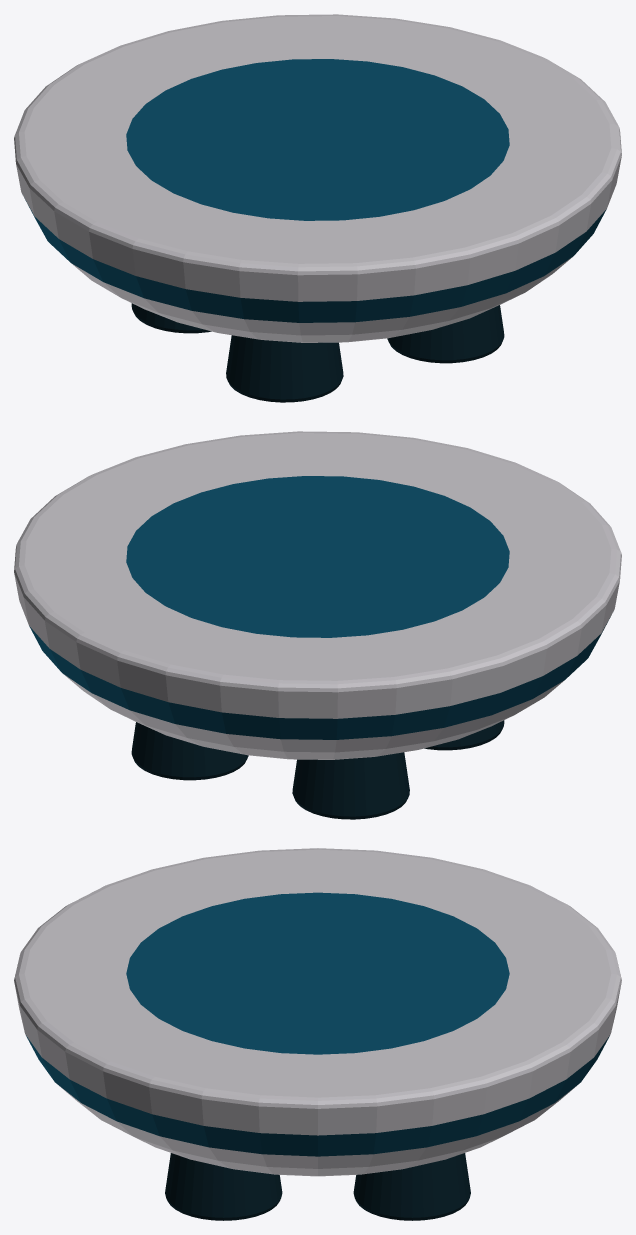
The model's file is HoverBoard.fbx.
3 renders of one model, top to bottom at view 1: azimuth 30°, elevation 25°; view 2: azimuth 150°, elevation 25°; view 3: azimuth 270°, elevation 25°, orthographic.
Visible parts, largest first — view 1: Sphere; view 2: Sphere; view 3: Sphere.
Boxes of the visible parts, x1,y1,x2,y2 form: Sphere: (14, 14, 621, 402); Sphere: (14, 431, 621, 819); Sphere: (14, 848, 621, 1220).
Size of the model in its own units: 37.4 by 12.58 by 37.4.
